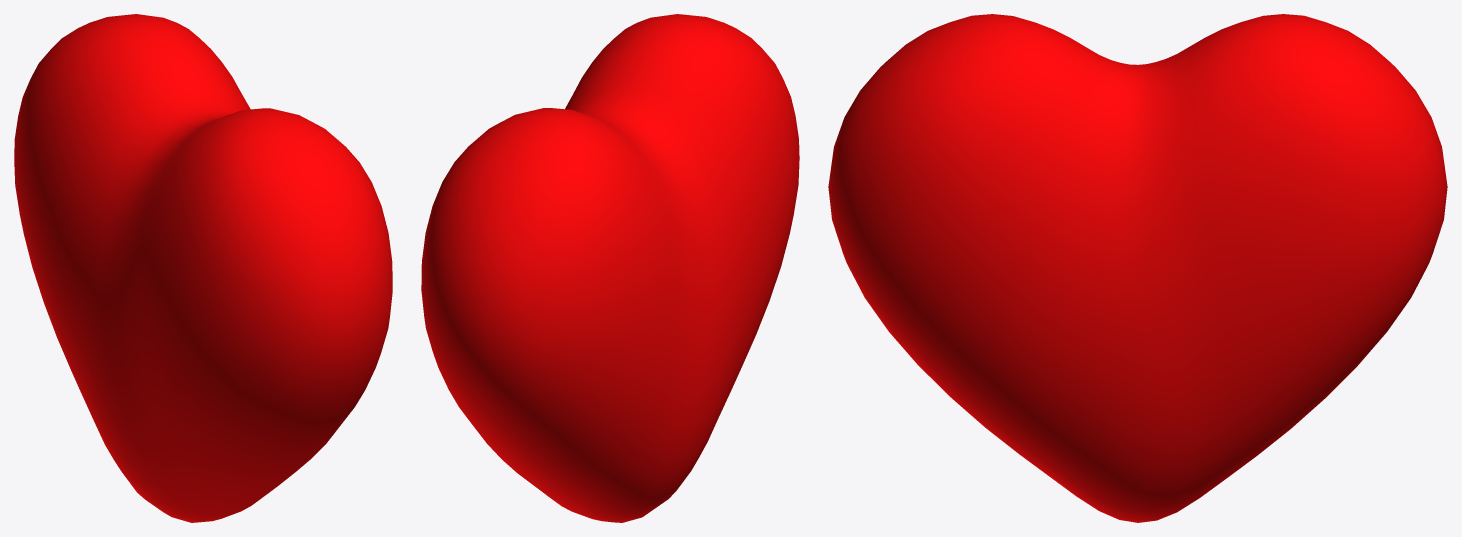
The picture shows the model from 3 angles, left to right: view 1: azimuth 30°, elevation 25°; view 2: azimuth 150°, elevation 25°; view 3: azimuth 270°, elevation 25°; orthographic projection. The views are drawn at different scales.
Parts seen in each view (by area): view 1: Heart_0; view 2: Heart_0; view 3: Heart_0.
Part boxes in pixels (x1,y1,x2,y2): Heart_0: (14, 14, 392, 522); Heart_0: (421, 14, 799, 522); Heart_0: (828, 14, 1447, 522).
Size of the model in its own units: 2.38 by 4.91 by 5.62.
